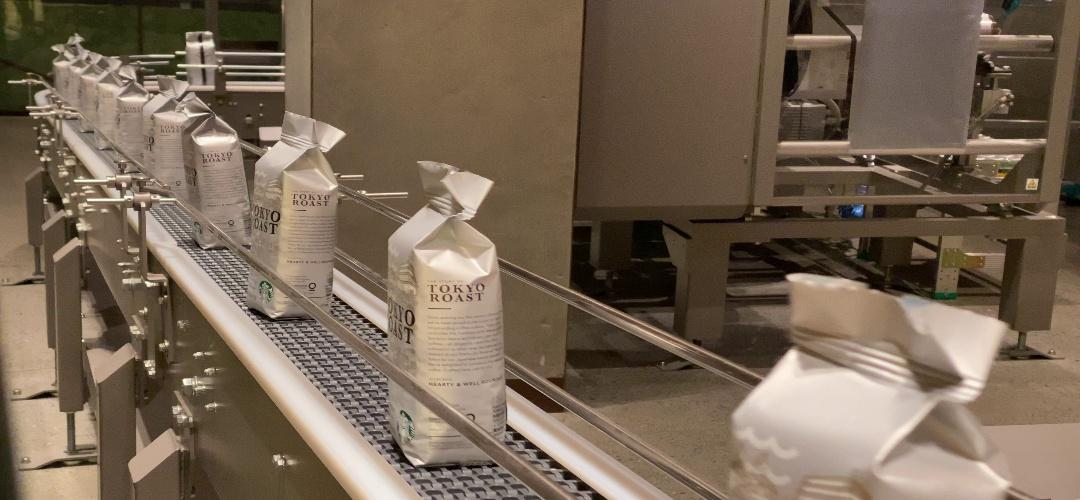conveyor: (731, 407, 1006, 500), (387, 237, 507, 355), (252, 167, 338, 244), (181, 139, 246, 193)
